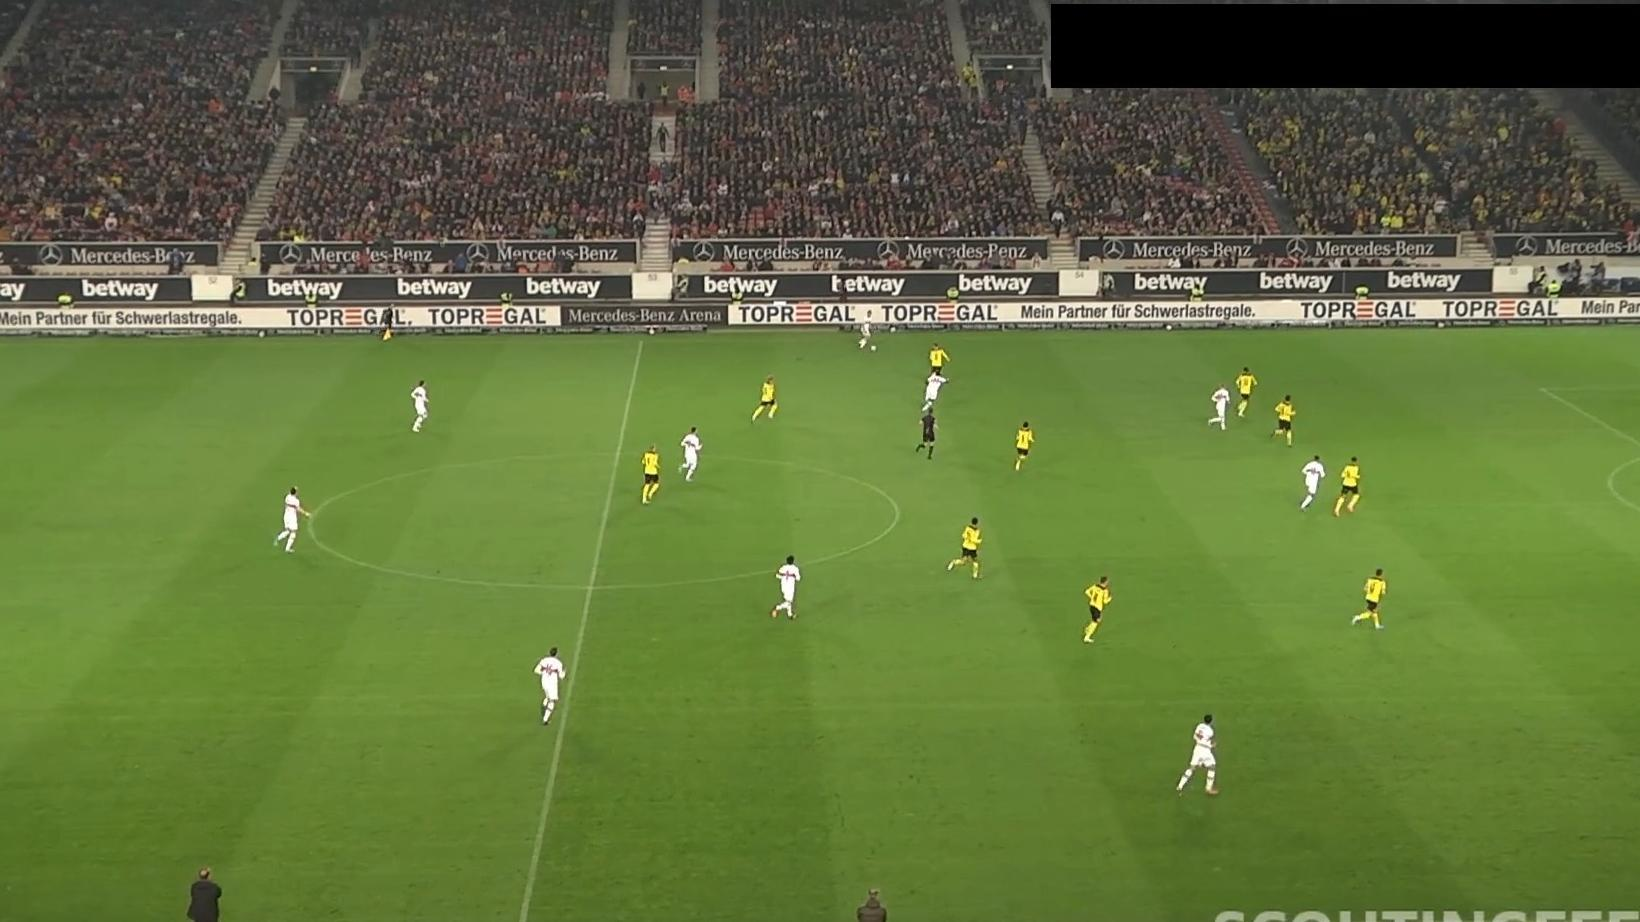ball: (870, 344, 877, 352)
